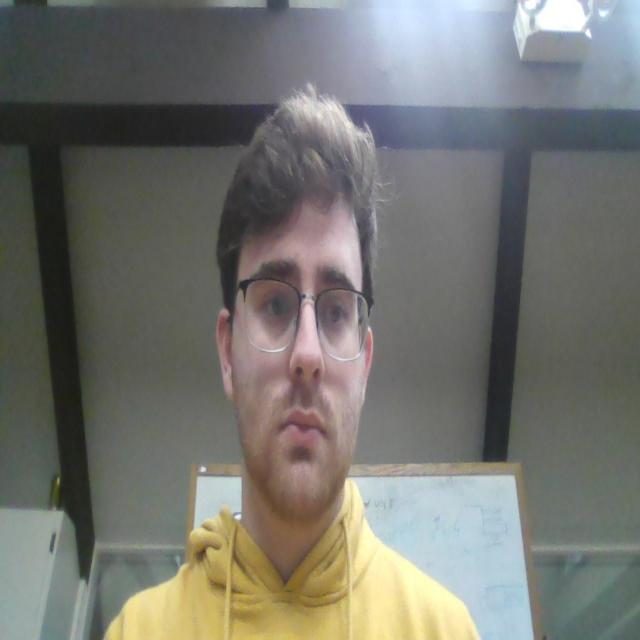eye: (260, 290, 294, 326), (322, 298, 349, 330)
gaze: (272, 297, 284, 318), (329, 304, 341, 322)
